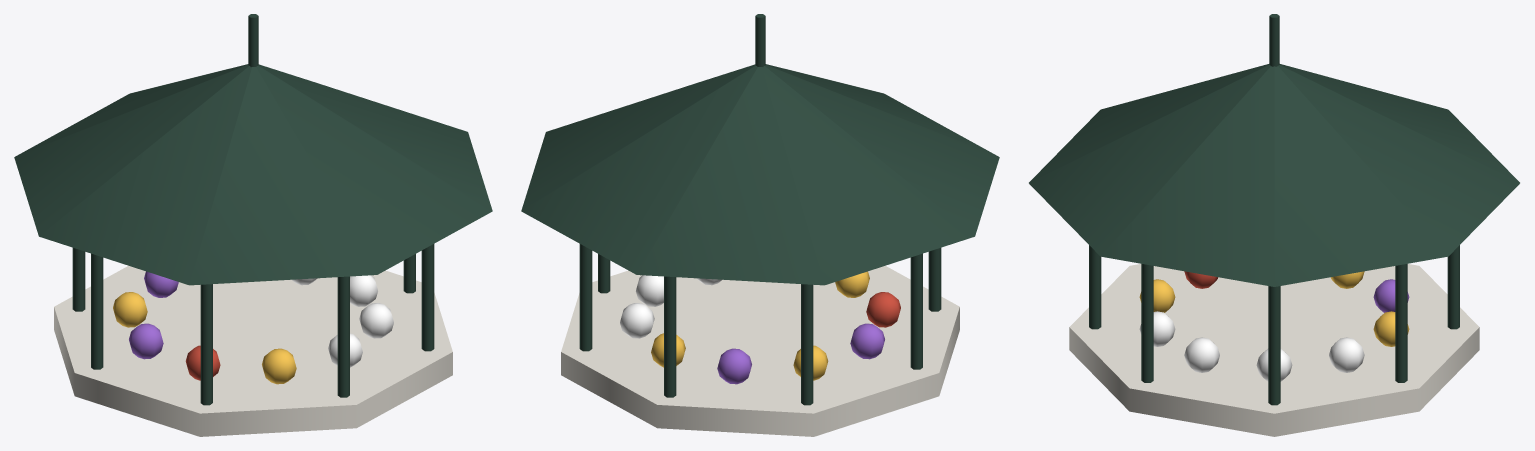
File: kiosk.obj
3 views of the same model, side by side, from view 1: azimuth 30°, elevation 25°; view 2: azimuth 150°, elevation 25°; view 3: azimuth 270°, elevation 25° (orthographic).
Parts seen in each view (by area): view 1: part10, part1, part5, part4, part6, part3, part13, part15, part17, part18, part7, part12 (+5 smaller); view 2: part10, part1, part7, part8, part6, part9, part17, part19, part21, part16, part5, part12 (+5 smaller); view 3: part10, part1, part2, part3, part9, part4, part8, part13, part21, part14, part20, part15 (+3 smaller).
Part boxes in pixels (box(x1,y1,x2,y2)): part10: box(14, 64, 492, 285); part1: box(54, 265, 452, 436); part5: box(200, 284, 212, 405); part4: box(337, 276, 349, 397); part6: box(91, 253, 103, 369); part3: box(421, 244, 434, 351); part13: box(359, 303, 393, 338); part15: box(262, 348, 296, 384); part17: box(129, 323, 163, 359); part18: box(113, 292, 147, 327); part7: box(72, 248, 85, 311); part12: box(350, 275, 377, 306); part10: box(521, 64, 999, 285); part1: box(561, 265, 959, 436); part7: box(801, 284, 813, 405); part8: box(664, 276, 676, 397); part6: box(910, 253, 922, 369); part9: box(579, 244, 592, 351); part17: box(850, 323, 884, 359); part19: box(717, 348, 751, 384); part21: box(620, 303, 654, 338); part16: box(866, 292, 900, 327); part5: box(928, 248, 941, 311); part12: box(636, 275, 663, 306); part10: box(1029, 64, 1519, 286); part1: box(1069, 264, 1479, 436); part2: box(1268, 286, 1280, 405); part3: box(1141, 264, 1153, 382); part9: box(1395, 264, 1407, 382); part4: box(1089, 245, 1101, 329); part8: box(1447, 245, 1459, 329); part13: box(1184, 337, 1219, 372); part21: box(1329, 337, 1364, 372); part14: box(1139, 311, 1175, 346); part20: box(1373, 311, 1409, 346); part15: box(1139, 279, 1175, 312).
Size of the model in its own units: 9.6 by 7.2 by 9.6.
